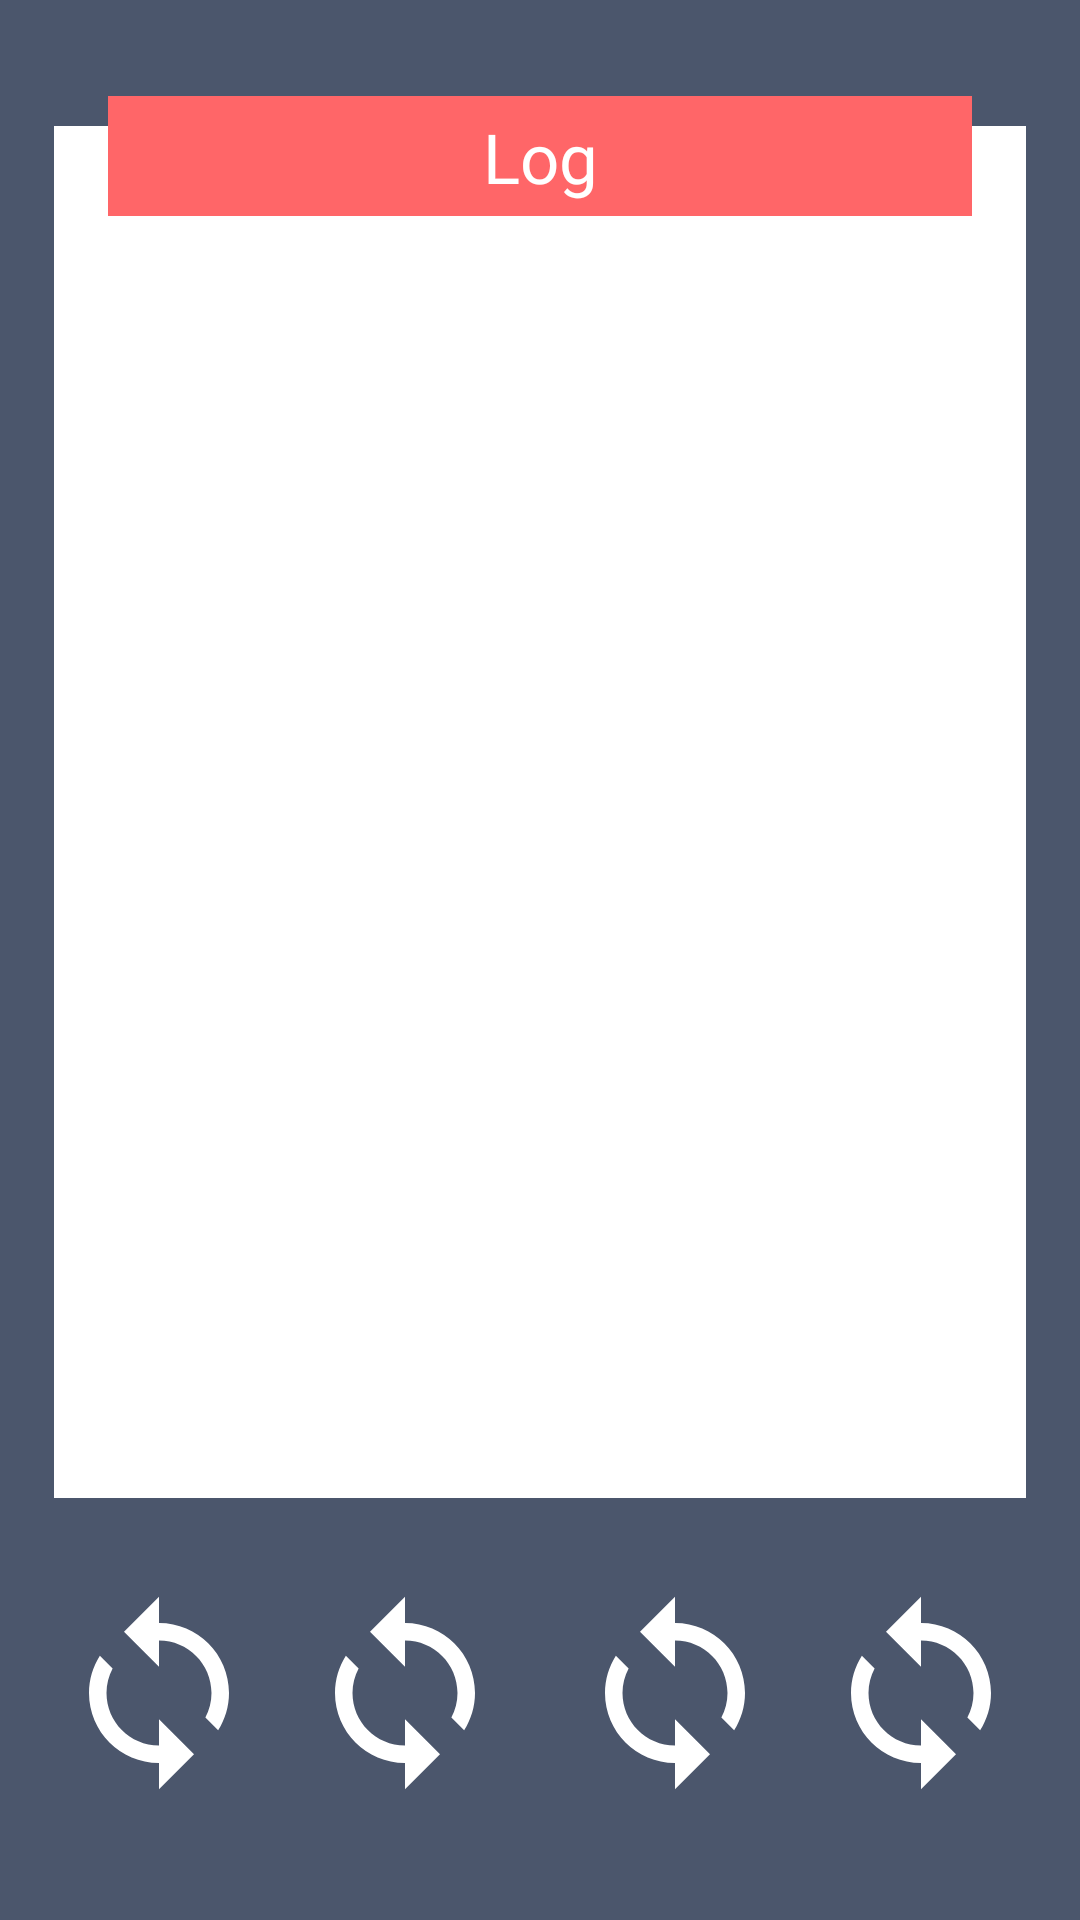

Icon bounding boxes for this 1080×1920 phone screenshot, format (x1=x1, y1=y1, x2=x2, y2=y2):
sync: (x1=89, y1=1597, x2=229, y2=1789), (x1=335, y1=1597, x2=475, y2=1789), (x1=605, y1=1597, x2=745, y2=1789), (x1=851, y1=1597, x2=991, y2=1789)
